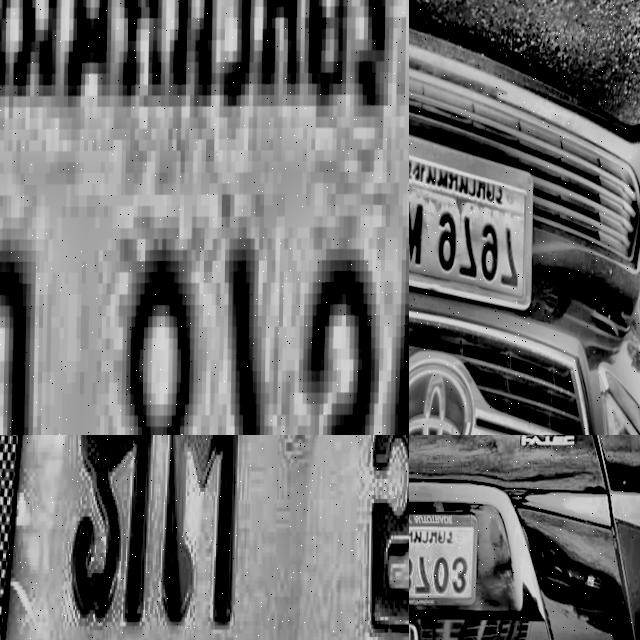license-plate: (0, 0, 409, 435), (0, 435, 409, 640), (409, 108, 536, 316), (409, 509, 477, 610)
